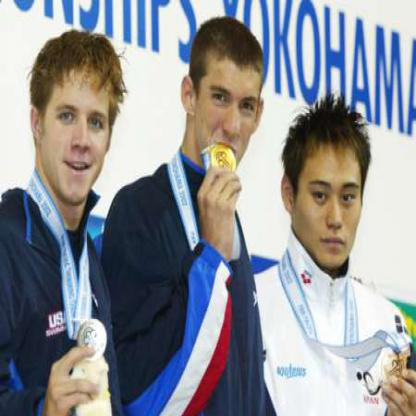face: (41, 42, 111, 207), (293, 117, 367, 270), (196, 27, 259, 181)
